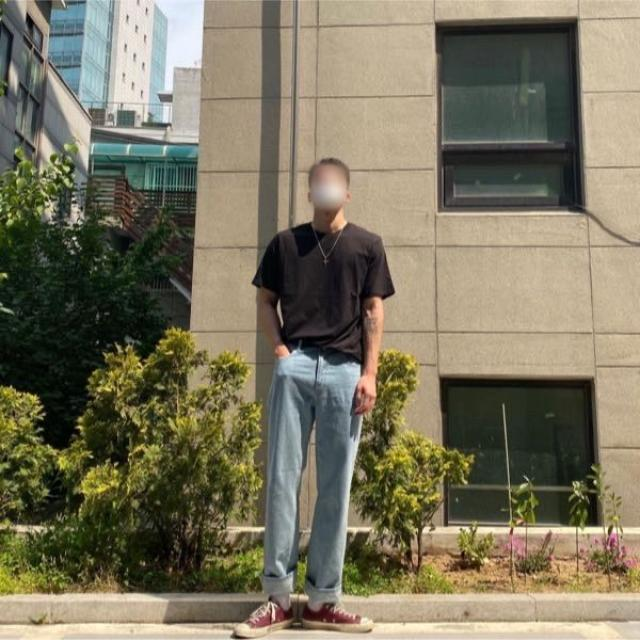denimpants: (262, 345, 360, 602)
shortsleeve: (257, 219, 398, 360)
